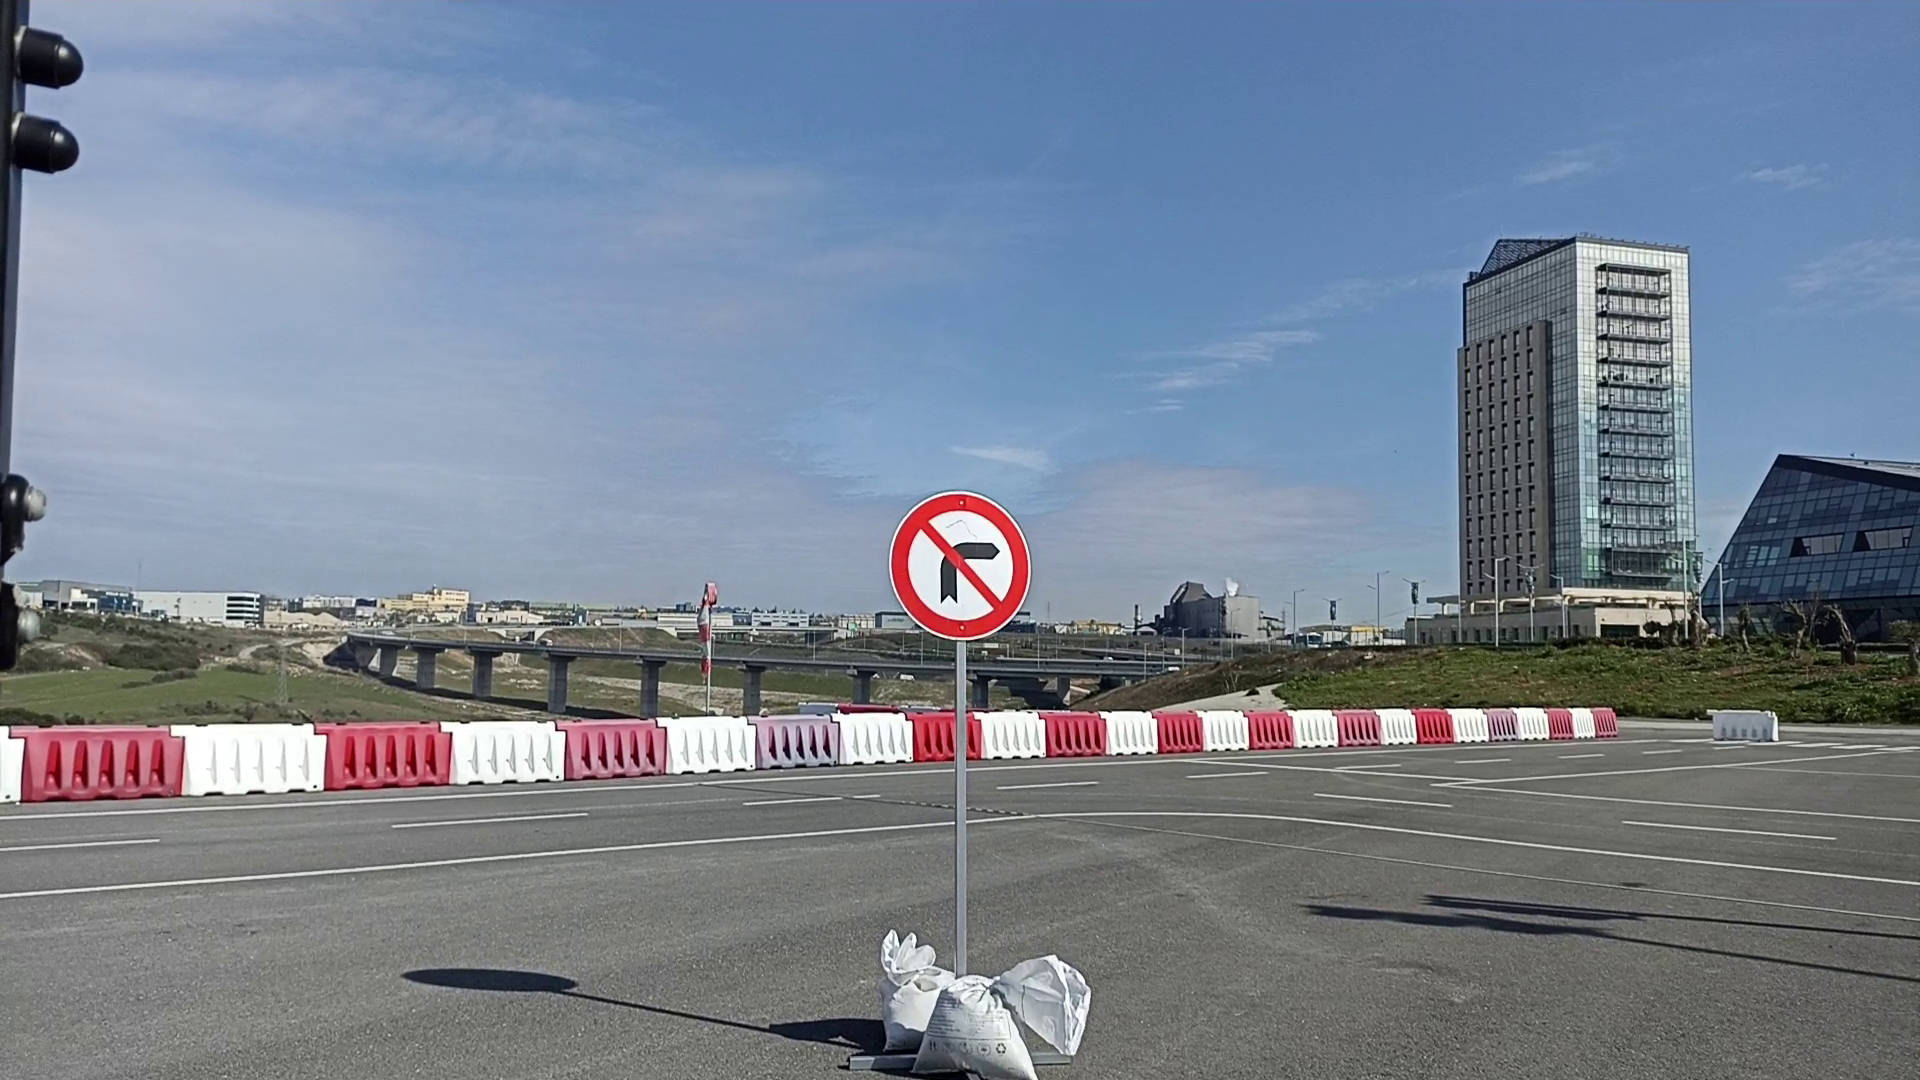noleftturn: (886, 484, 1036, 646)
